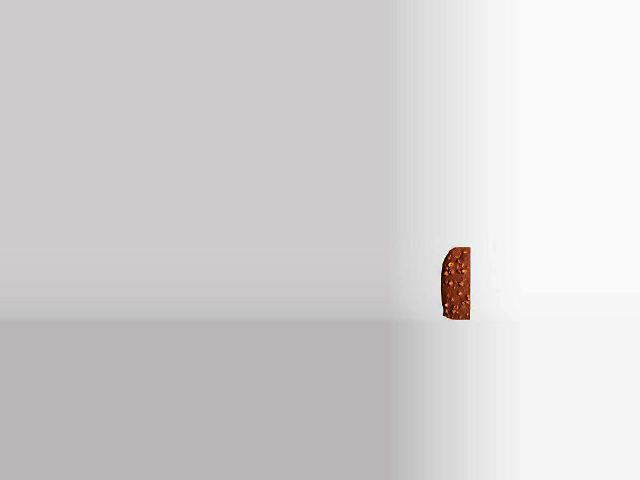chocolate: (435, 247, 473, 319)
